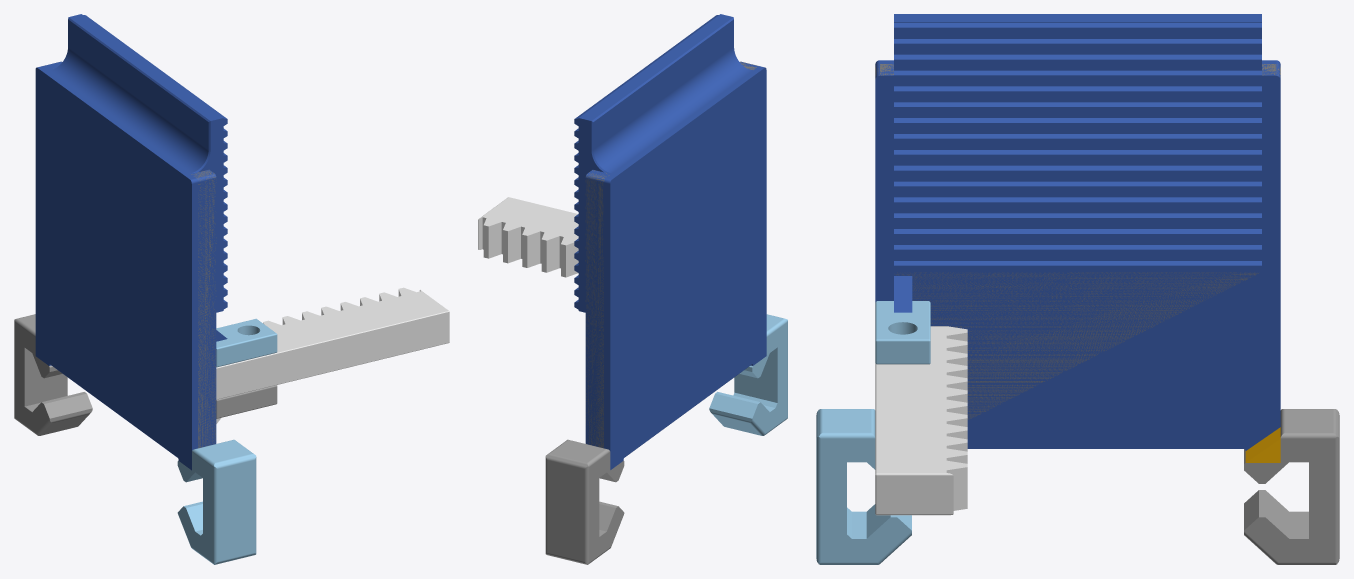
Rendered from left_jaw.obj.
3 views of the same model, side by side, from view 1: azimuth 30°, elevation 25°; view 2: azimuth 150°, elevation 25°; view 3: azimuth 270°, elevation 25° (orthographic). The views are drawn at different scales.
Parts seen in each view (by area): view 1: mesh279, mesh177, mesh269, mesh262, mesh173, mesh261, mesh118, mesh256, mesh288, mesh66, mesh254, mesh108 (+8 smaller); view 2: mesh279, mesh267, mesh262, mesh261, mesh78, mesh296, mesh173, mesh259, mesh108, mesh66, mesh254, mesh99 (+9 smaller); view 3: mesh276, mesh298, mesh173, mesh68, mesh107, mesh254, mesh181, mesh190, mesh194, mesh198, mesh214, mesh218 (+50 smaller).
Boxes of the visible parts, x1=… form: mesh279: x1=35, y1=67, x2=191, y2=470; mesh177: x1=216, y1=312, x2=449, y2=399; mesh269: x1=192, y1=178, x2=216, y2=450; mesh262: x1=50, y1=47, x2=208, y2=173; mesh173: x1=216, y1=287, x2=447, y2=367; mesh261: x1=68, y1=19, x2=208, y2=149; mesh118: x1=217, y1=460, x2=254, y2=561; mesh256: x1=198, y1=118, x2=227, y2=312; mesh288: x1=198, y1=179, x2=216, y2=448; mesh66: x1=14, y1=322, x2=49, y2=432; mesh254: x1=69, y1=14, x2=222, y2=120; mesh108: x1=177, y1=452, x2=212, y2=561; mesh279: x1=610, y1=67, x2=766, y2=469; mesh267: x1=585, y1=178, x2=610, y2=450; mesh262: x1=593, y1=47, x2=751, y2=173; mesh261: x1=593, y1=19, x2=733, y2=149; mesh78: x1=547, y1=460, x2=584, y2=561; mesh296: x1=585, y1=179, x2=603, y2=448; mesh173: x1=482, y1=197, x2=578, y2=245; mesh259: x1=574, y1=118, x2=603, y2=312; mesh108: x1=752, y1=322, x2=787, y2=432; mesh66: x1=589, y1=452, x2=624, y2=561; mesh254: x1=579, y1=14, x2=733, y2=120; mesh99: x1=734, y1=347, x2=777, y2=402; mesh276: x1=875, y1=75, x2=1280, y2=450; mesh298: x1=896, y1=272, x2=1258, y2=419; mesh173: x1=876, y1=326, x2=967, y2=473; mesh68: x1=1244, y1=438, x2=1334, y2=562; mesh107: x1=821, y1=438, x2=911, y2=562; mesh254: x1=894, y1=14, x2=1261, y2=22; mesh181: x1=876, y1=475, x2=953, y2=513; mesh190: x1=894, y1=43, x2=1261, y2=49; mesh194: x1=894, y1=59, x2=1261, y2=65; mesh198: x1=894, y1=75, x2=1261, y2=81; mesh214: x1=894, y1=138, x2=1261, y2=144; mesh218: x1=894, y1=154, x2=1261, y2=160.
Size of the model in its own units: 0.042 by 0.0649 by 0.0568.
